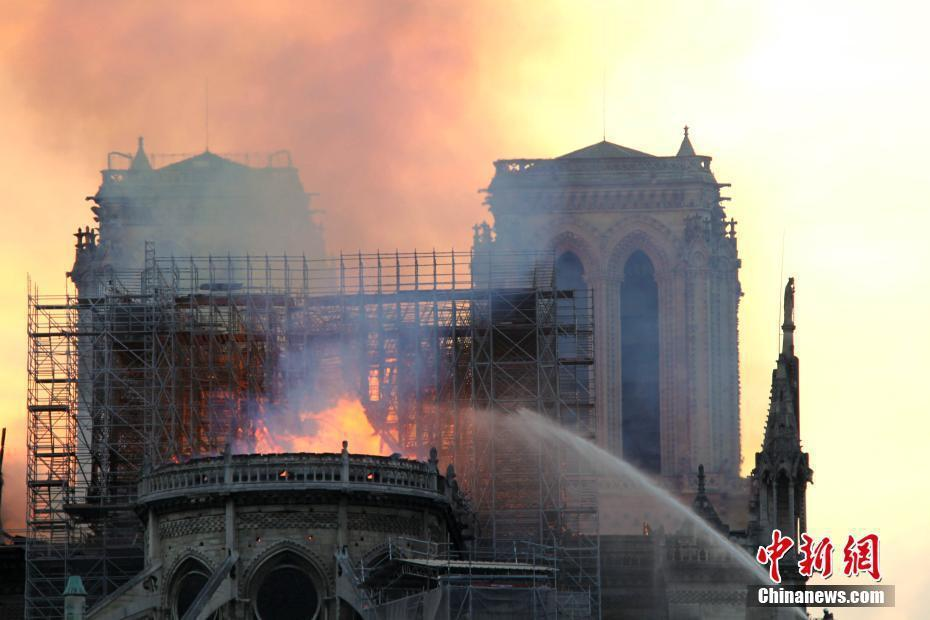fire: (252, 390, 442, 465)
